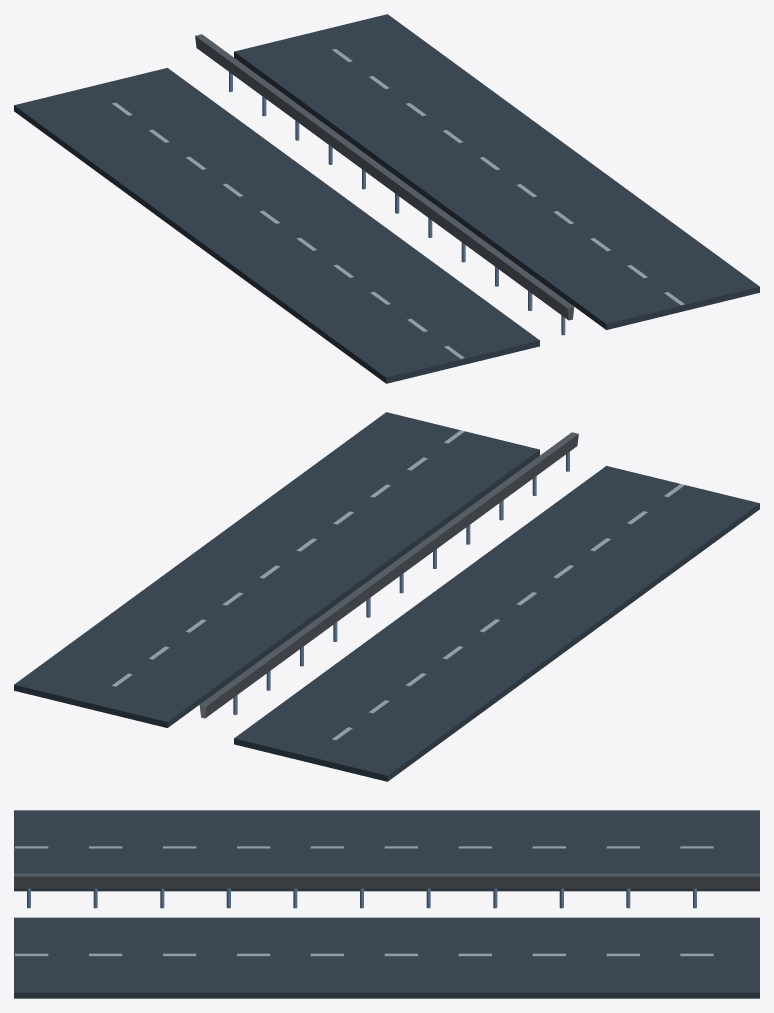
The model's file is CUPIC_HIGHWAY.obj.
3 renders of one model, top to bottom at view 1: azimuth 30°, elevation 25°; view 2: azimuth 150°, elevation 25°; view 3: azimuth 270°, elevation 25°, orthographic.
Bounding box in the file's own units: 649 × 53.91 × 1120.
Materials: 1 (1 with a texture image).
